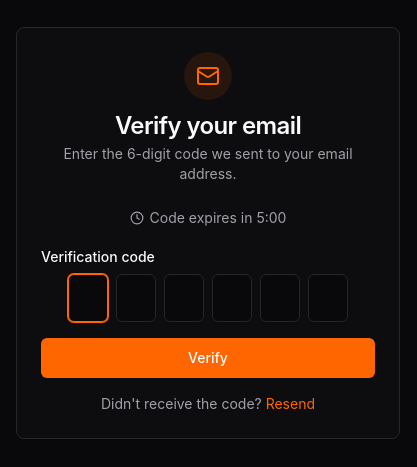
VerifyEmailPage — form validation › shows error for empty code submission
Click the button "Verify": (208, 358) left=41, top=338, right=375, bottom=378
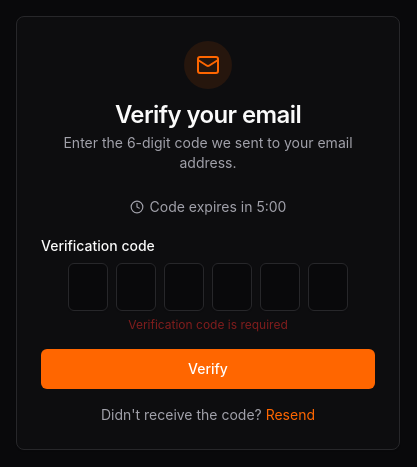
Check: the text "Verification code is required" is shown, box left=128, top=317, right=288, bottom=332
